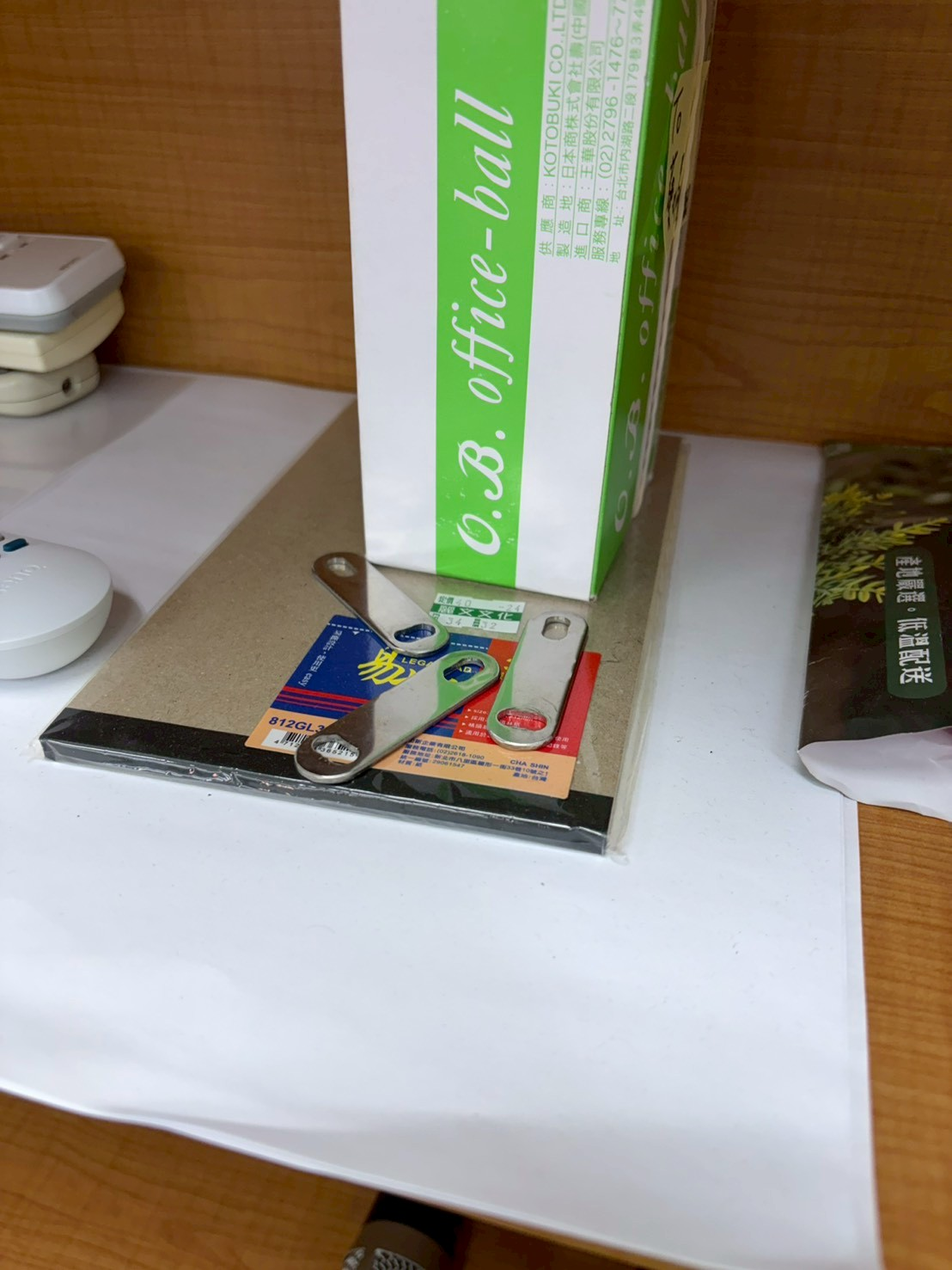Fe: (289, 643, 487, 781), (501, 574, 595, 767), (303, 530, 455, 648)
